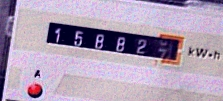1: (52, 26, 63, 43)
2: (135, 36, 147, 55)
5: (73, 29, 85, 46)
7: (157, 46, 167, 58)
8: (114, 34, 126, 53), (93, 32, 105, 50)
screen: (38, 12, 190, 71)
